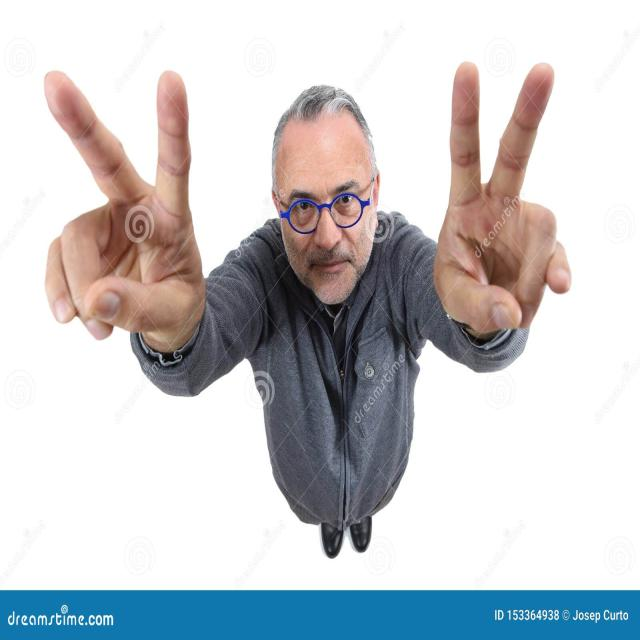Victory: (25, 58, 230, 340), (429, 53, 590, 340)
